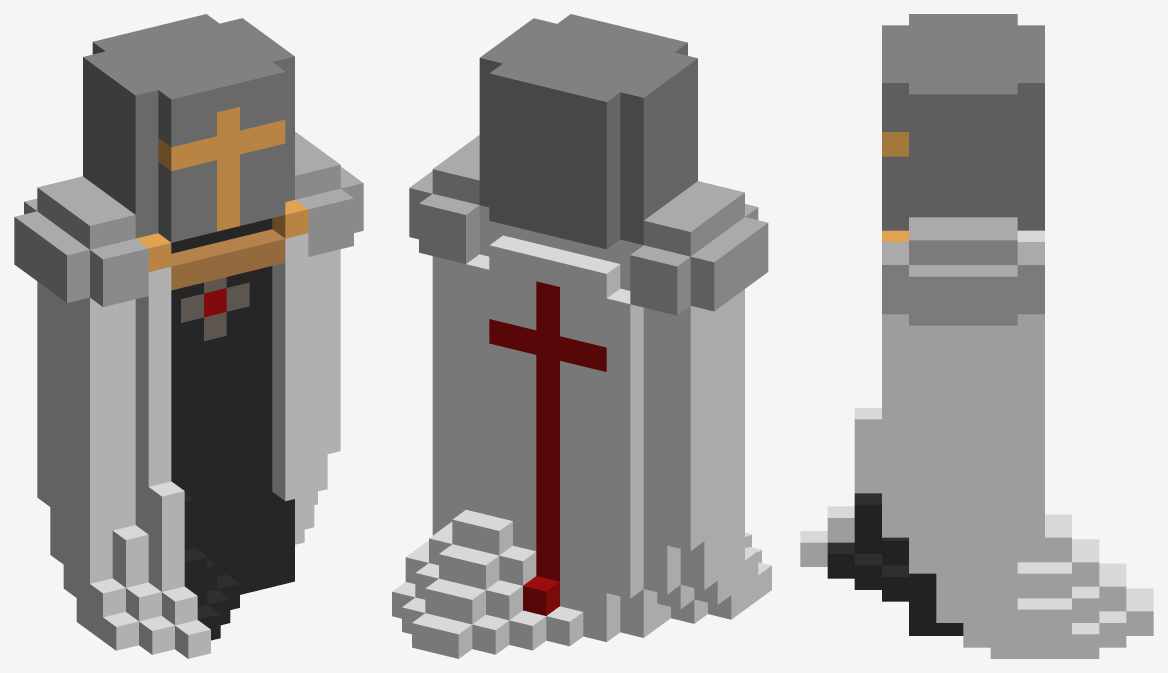
File: Walk4.obj
3 views of the same model, side by side, from view 1: azimuth 30°, elevation 25°; view 2: azimuth 150°, elevation 25°; view 3: azimuth 270°, elevation 25° (orthographic). The views are drawn at different scales.
Bounding box in the file's own units: 13 × 22 × 13.
Materials: 1 (1 with a texture image).
